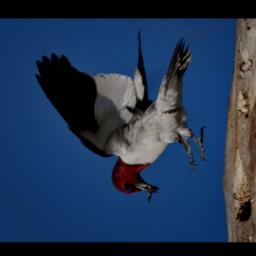Woodpecker: (35, 31, 207, 199)
